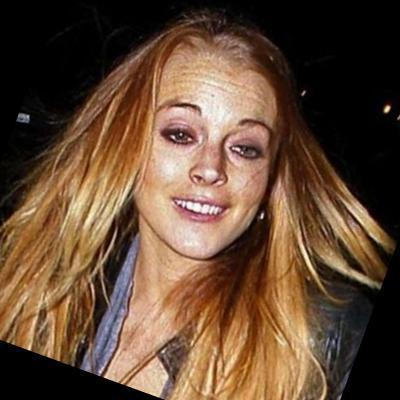Drunk: (152, 58, 272, 256)
